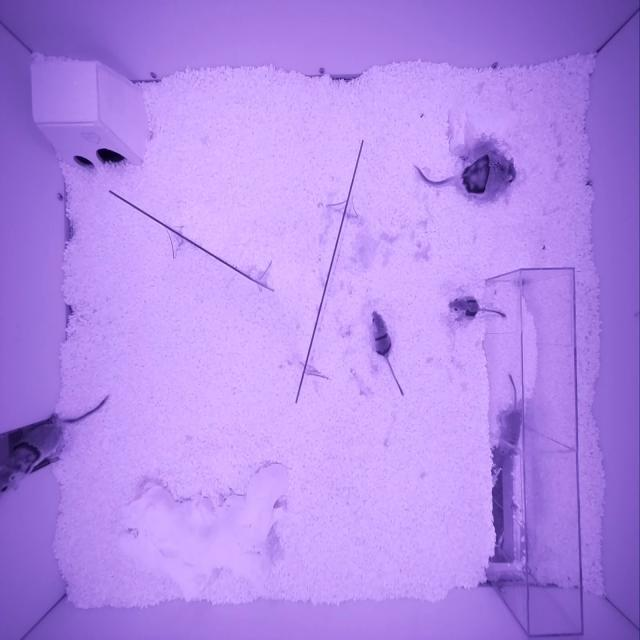adult_back: (458, 152, 516, 205)
adult_front: (1, 421, 61, 494)
pup_fluffy: (497, 408, 522, 457)
pup_h_stripe: (371, 311, 392, 358)
pup_v_stripe: (448, 295, 480, 319)
